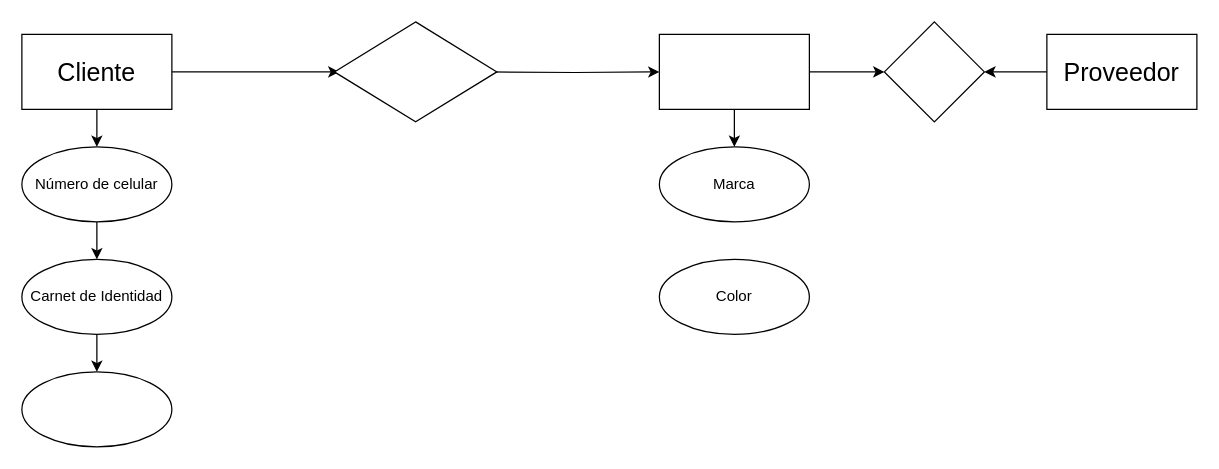
The diagram is 1219 pixels wide and 469 high, and some of its shapes have lost their labels. Here are the shapes that lost their labels. From the top down, the box of each, then its label:
(333, 21, 497, 122): Compra
(658, 33, 809, 109): Producto (Auto)
(21, 371, 172, 447): Nombre
